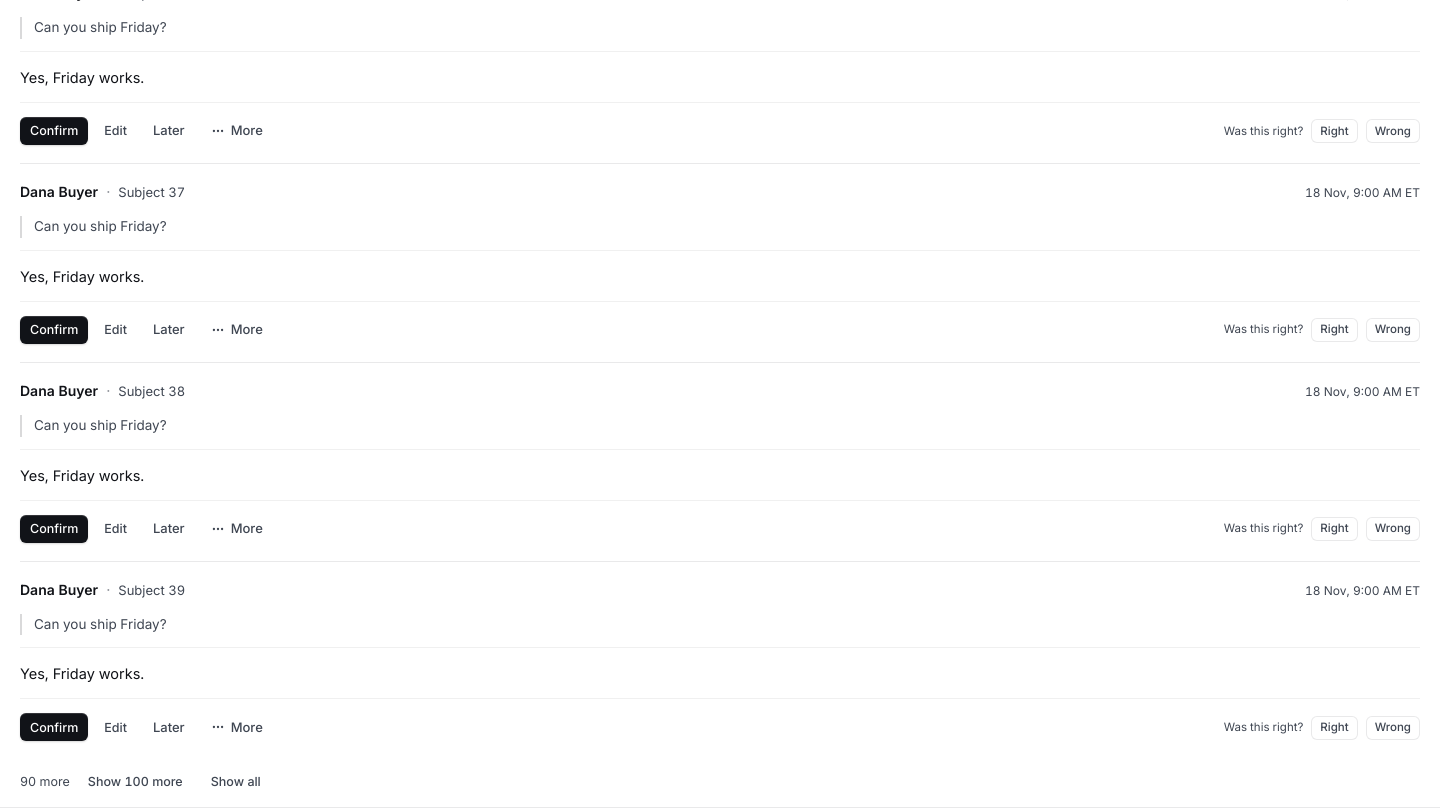
Test: a long list draws its first cards and every other one is one click away › draws 40 of 130, 100 more on a click and all of them on 'Show all'; the count is the whole list
(page scrolled)
expect the element with test id "more-cards" shows "90 more": met, box [20,767,271,795]
Click the button "Show 100 more" at (135, 781), box [78,767,193,795]
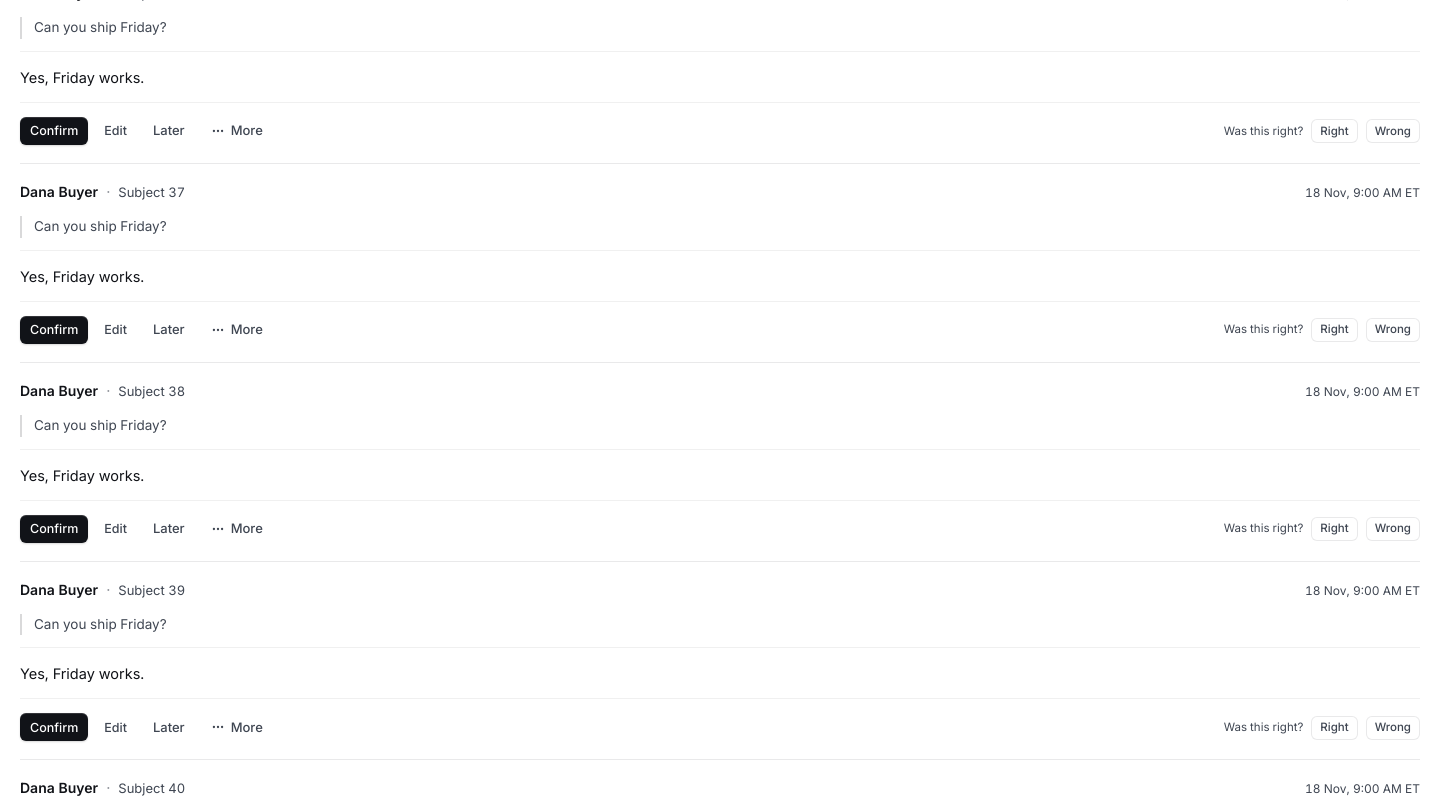
expect the element with test id "more-cards" is gone: met
